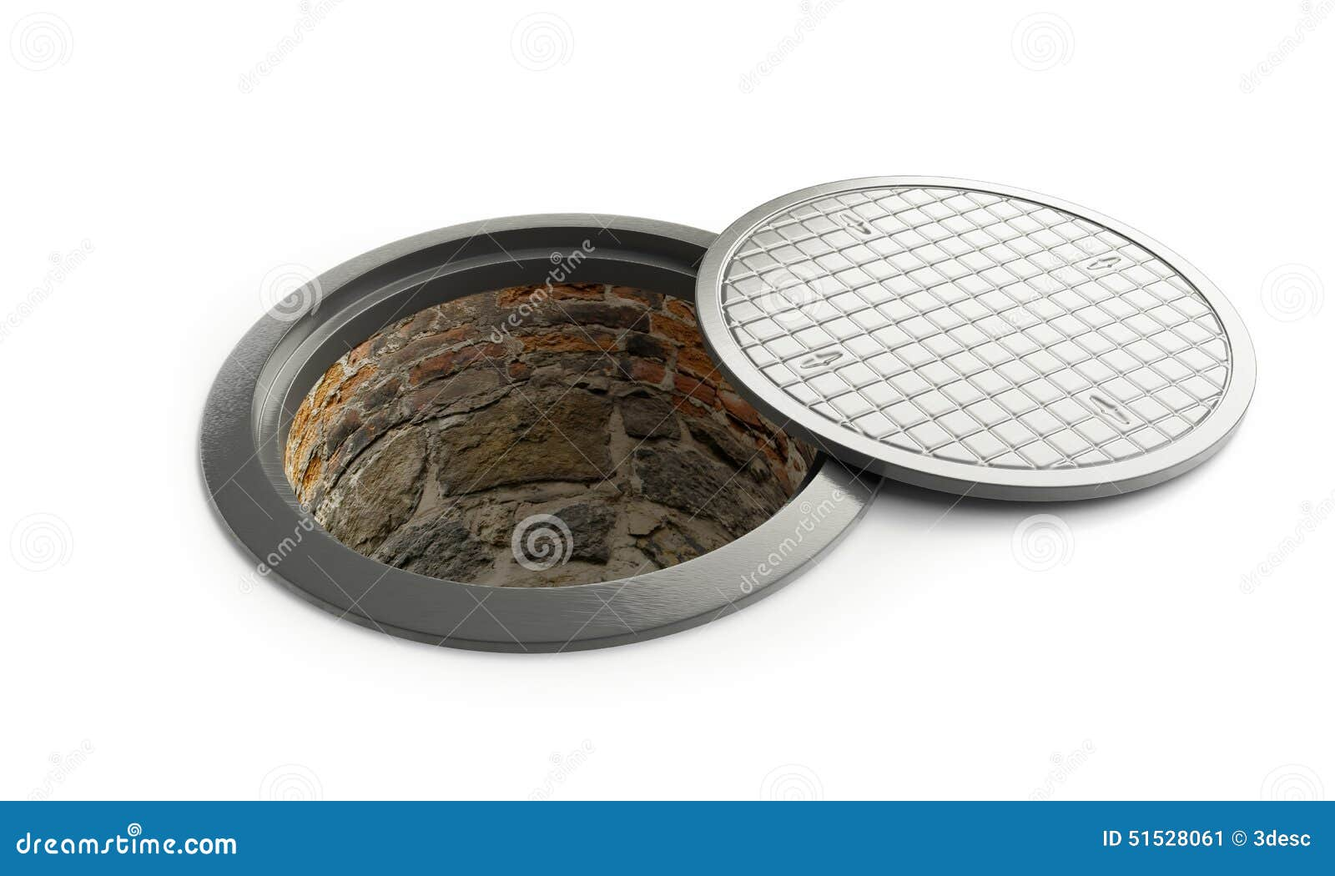Open_manhole: (113, 153, 1269, 661)
